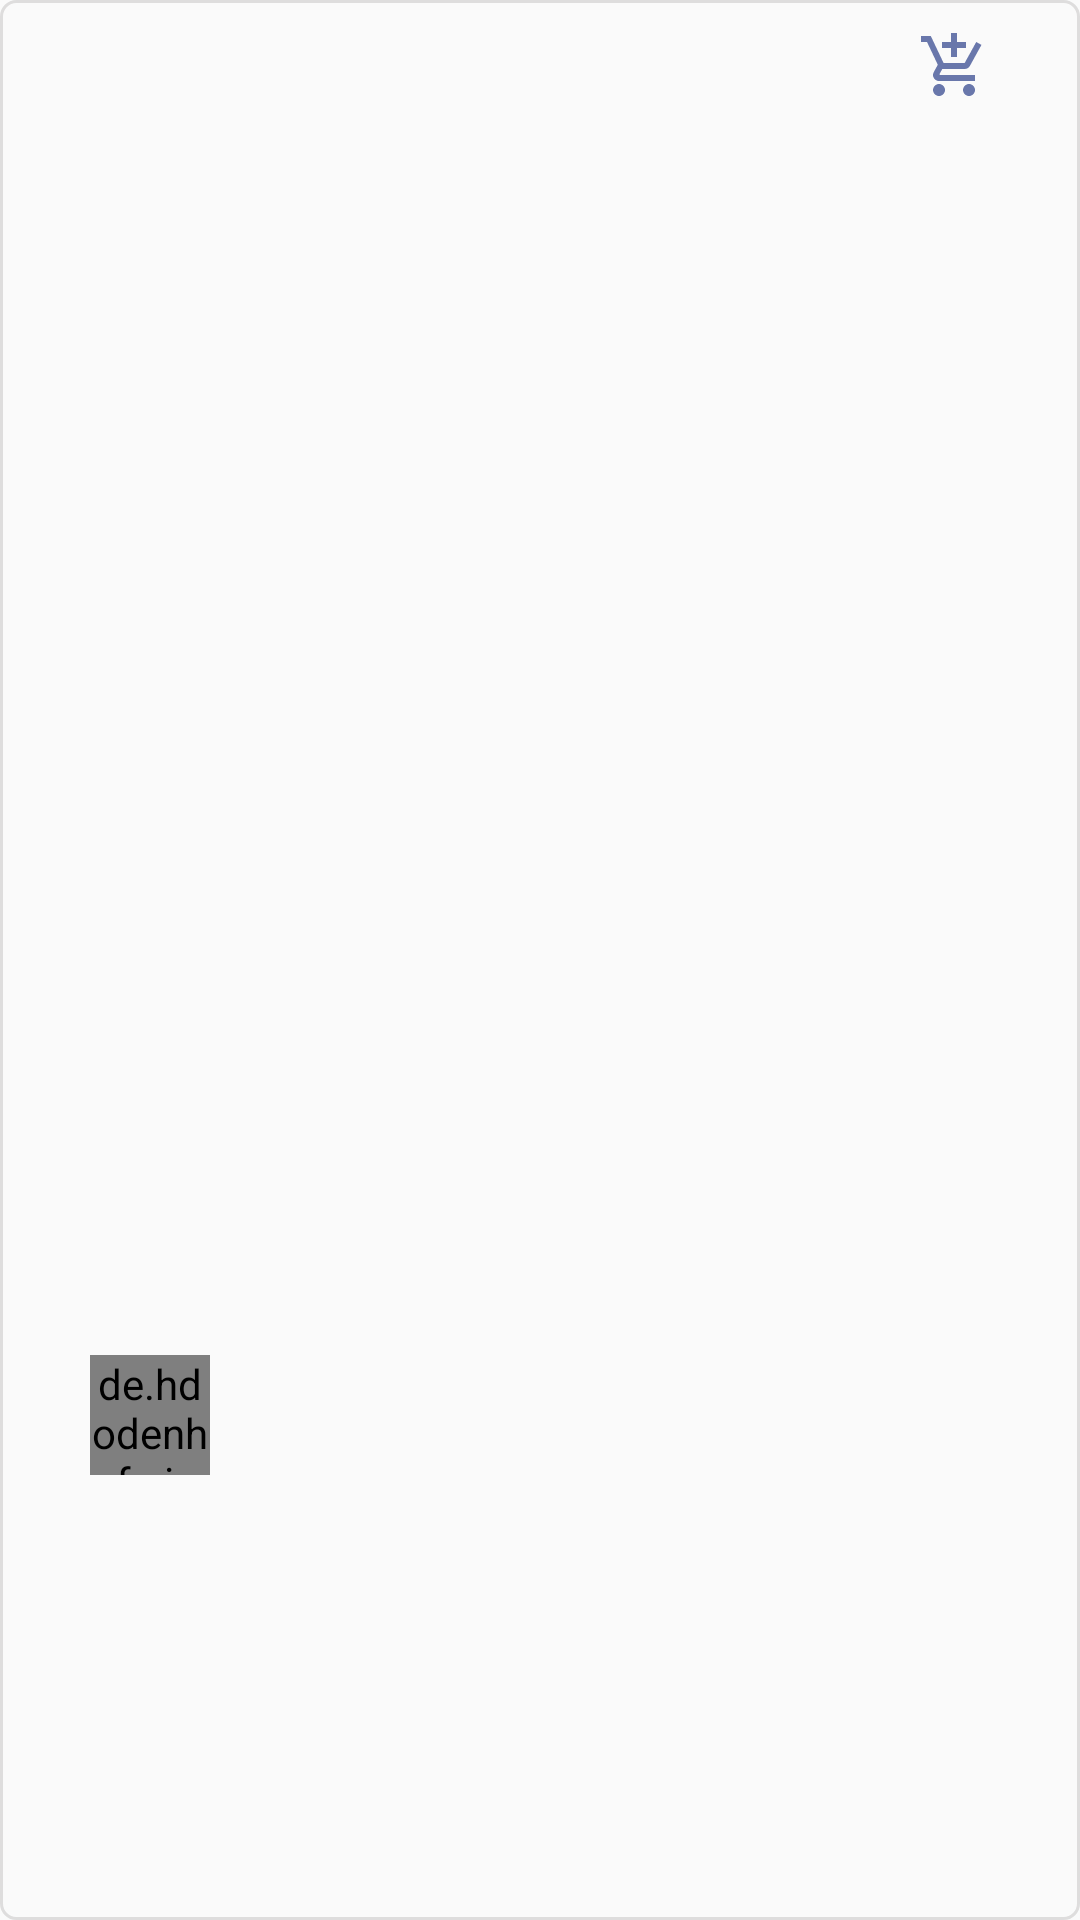

Where icons sit on this 1080*1920 app screen, as (x1, y1, x2, y2):
add shopping cart: (921, 33, 981, 96)
